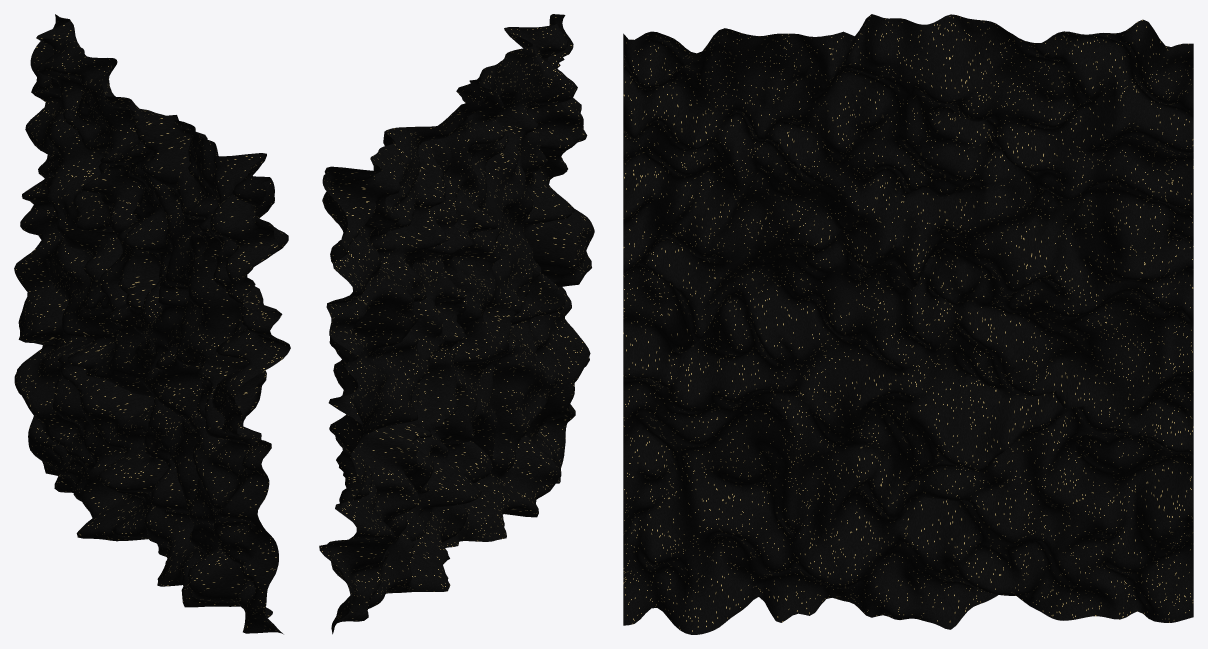
File: background_distorted_noise_02.obj
The picture shows the model from 3 angles, left to right: view 1: azimuth 30°, elevation 25°; view 2: azimuth 150°, elevation 25°; view 3: azimuth 270°, elevation 25°; orthographic projection. The views are drawn at different scales.
Size of the model in its own units: 0.3833 by 2.24 by 2.
Materials: 1 (1 with a texture image).
